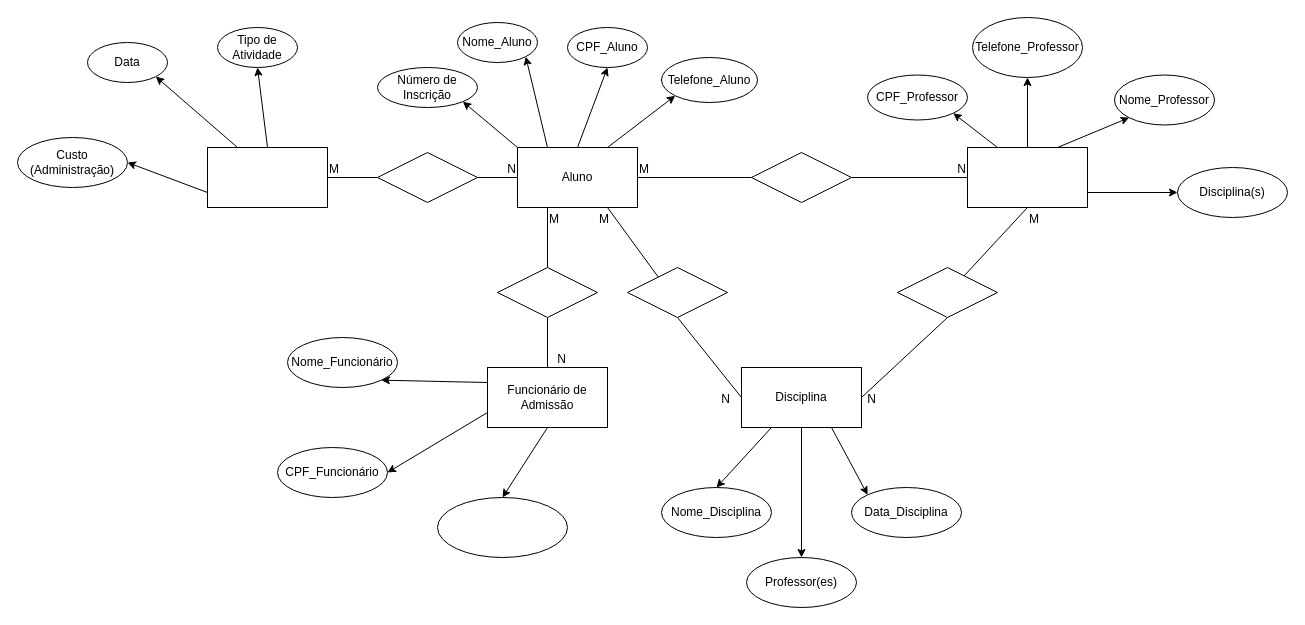
The diagram is 1305 pixels wide and 625 high, and some of its shapes have lost their labels. Each missing label, with the box of its shape:
Atividades Extracurriculares: (206, 146, 328, 208)
Avalia: (496, 266, 598, 318)
Conduz: (750, 152, 852, 202)
Cursa: (626, 266, 728, 318)
Participa: (376, 152, 478, 202)
Possui: (896, 266, 998, 318)
Professor: (966, 146, 1088, 208)
Telefone_Funcionário: (436, 496, 568, 558)
